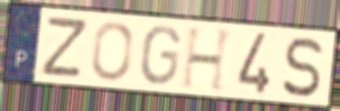4: (234, 30, 273, 97)
G: (138, 24, 183, 87)
H: (179, 25, 237, 94)
O: (89, 20, 135, 83)
S: (280, 35, 326, 100)
Z: (37, 16, 91, 80)
